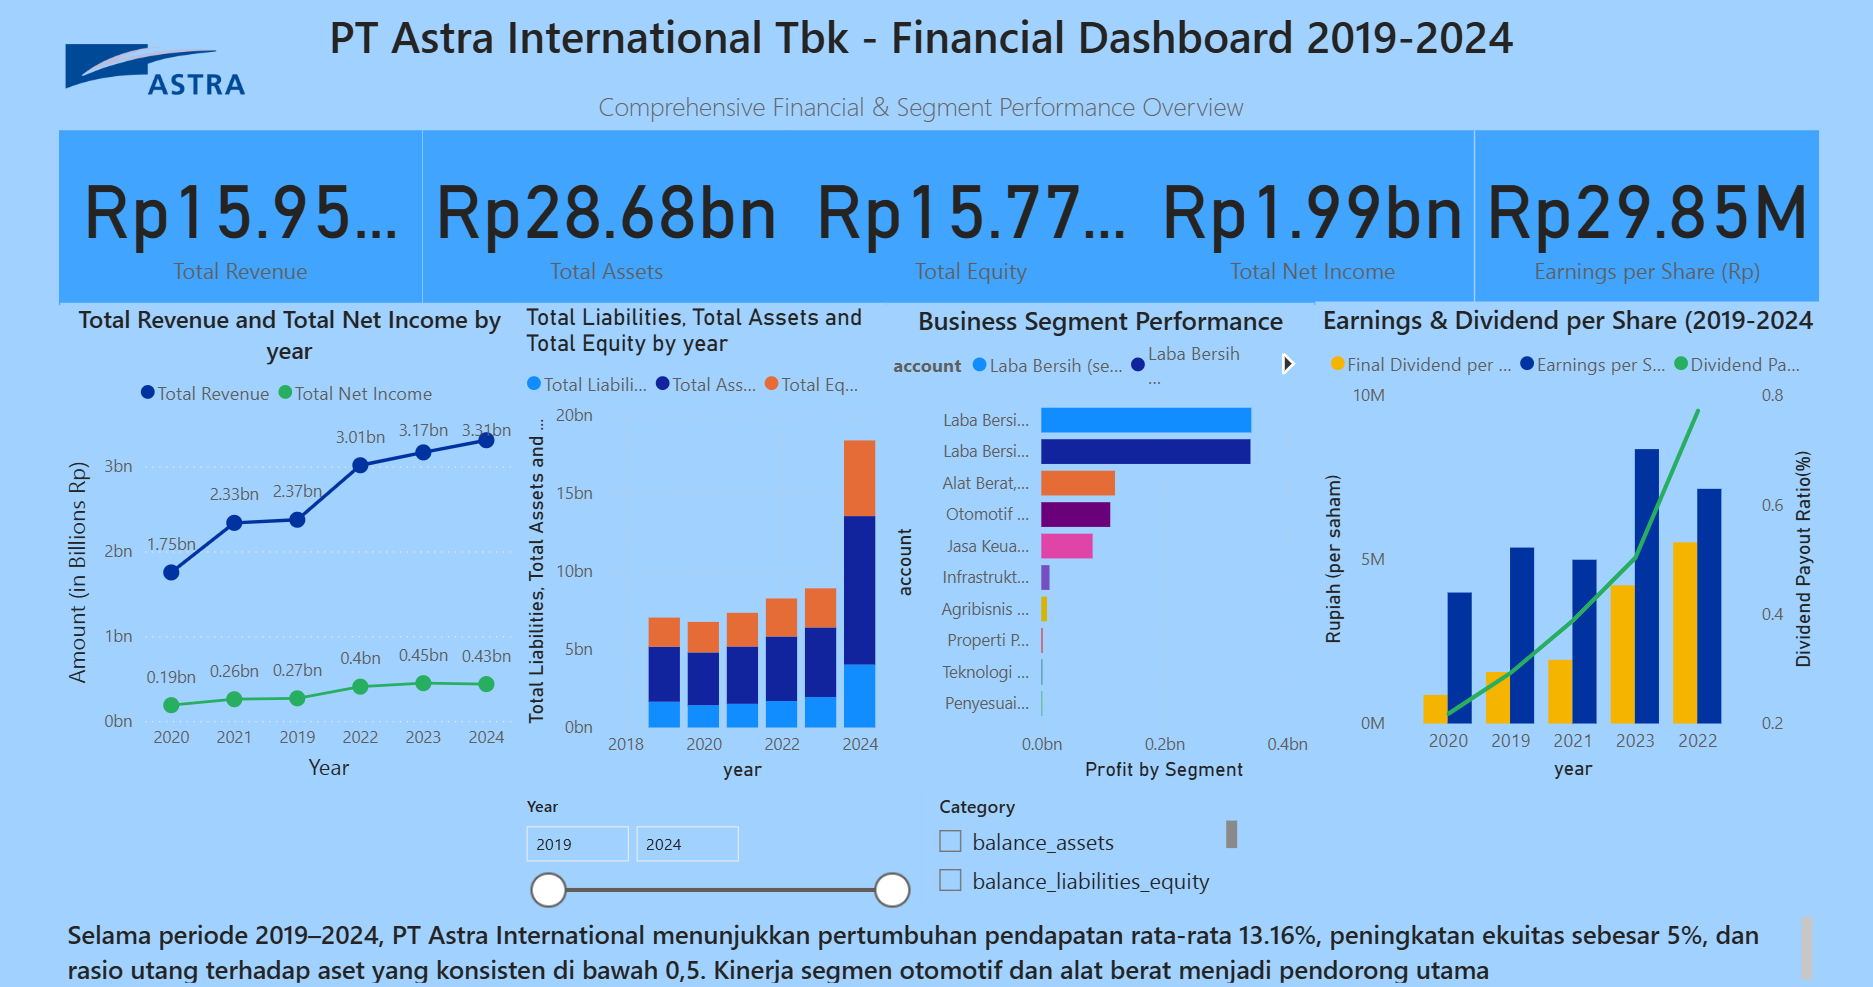

The dashboard page shown, as its layout file describes it:
{"tool":"powerbi","page":{"name":"Astra Dashboard","canvas":[1280,720],"ordinal":0},"visuals":[{"type":"image","box":[0,0,140,102.9],"z":0},{"type":"textbox","box":[139.4,0,975.8,102.7],"z":1000},{"type":"card","fields":{"Values":["vw_Financials_Astra.Total Revenue"]},"box":[0,95.4,264.1,127.2],"z":2000},{"type":"card","fields":{"Values":["vw_Financials_Astra.Total Net Income"]},"box":[794.8,95.4,234.8,127.2],"z":3000},{"type":"card","fields":{"Values":["vw_Financials_Astra.Total Assets"]},"box":[264.1,95.4,267.8,127.2],"z":4000},{"type":"card","fields":{"Values":["vw_Financials_Astra.Total Equity"]},"box":[531.9,95.4,262.9,127.2],"z":5000},{"type":"card","fields":{"Values":["vw_Financials_Astra.Earnings per Share (Rp)"]},"box":[1029.6,95.4,250.7,127.2],"z":6000},{"type":"lineChart","fields":{"Category":["vw_Financials_Astra.year"],"Y":["vw_Financials_Astra.Total Revenue","vw_Financials_Astra.Total Net Income"]},"box":[1.1,221,333.4,352.7],"z":7000},{"type":"columnChart","fields":{"Category":["vw_Financials_Astra.year"],"Y":["vw_Financials_Astra.Total Liabilities","vw_Financials_Astra.Total Assets","vw_Financials_Astra.Total Equity"]},"box":[334.5,221,267.6,352.7],"z":8000},{"type":"barChart","title":"Business Segment Performance","fields":{"Category":["vw_Financials_Astra.account"],"Y":["vw_Financials_Astra.Profit by Segment"],"Series":["vw_Financials_Astra.account"]},"box":[602.1,221,311.5,352.7],"z":9000},{"type":"lineClusteredColumnComboChart","title":"Earnings & Dividend per Share (2019-2024","fields":{"Category":["vw_Financials_Astra.year"],"Y":["vw_Financials_Astra.Final Dividend per Share (Rp)","vw_Financials_Astra.Earnings per Share (Rp)"],"Y2":["vw_Financials_Astra.Dividend Payout Ratio (%)"]},"box":[913.6,219.6,367.8,352.7],"z":10000},{"type":"textbox","box":[1.2,662.8,1279.1,57.5],"z":11000},{"type":"slicer","fields":{"Values":["vw_Financials_Astra.year"]},"box":[327.7,573.5,299.6,90.5],"z":12000},{"type":"slicer","fields":{"Values":["vw_Financials_Astra.category"]},"box":[627.3,572.3,234.8,90.5],"z":12001}]}

Visuals, with their boxes on the page's 1280x720 design canvas (x1, y1, x2, y2). These are canvas units, not pixel positions in the 1873x987 screenshot, which may show the page scaled, cropped or inside an application window:
image: bbox=[0, 0, 140, 103]
textbox: bbox=[139, 0, 1115, 103]
card - vw_Financials_Astra.Total Revenue: bbox=[0, 95, 264, 223]
card - vw_Financials_Astra.Total Net Income: bbox=[795, 95, 1030, 223]
card - vw_Financials_Astra.Total Assets: bbox=[264, 95, 532, 223]
card - vw_Financials_Astra.Total Equity: bbox=[532, 95, 795, 223]
card - vw_Financials_Astra.Earnings per Share (Rp): bbox=[1030, 95, 1280, 223]
lineChart - vw_Financials_Astra.year x vw_Financials_Astra.Total Revenue: bbox=[1, 221, 334, 574]
columnChart - vw_Financials_Astra.year x vw_Financials_Astra.Total Liabilities: bbox=[334, 221, 602, 574]
"Business Segment Performance" barChart: bbox=[602, 221, 914, 574]
"Earnings & Dividend per Share (2019-2024" lineClusteredColumnComboChart: bbox=[914, 220, 1281, 572]
textbox: bbox=[1, 663, 1280, 720]
slicer - vw_Financials_Astra.year: bbox=[328, 574, 627, 664]
slicer - vw_Financials_Astra.category: bbox=[627, 572, 862, 663]
